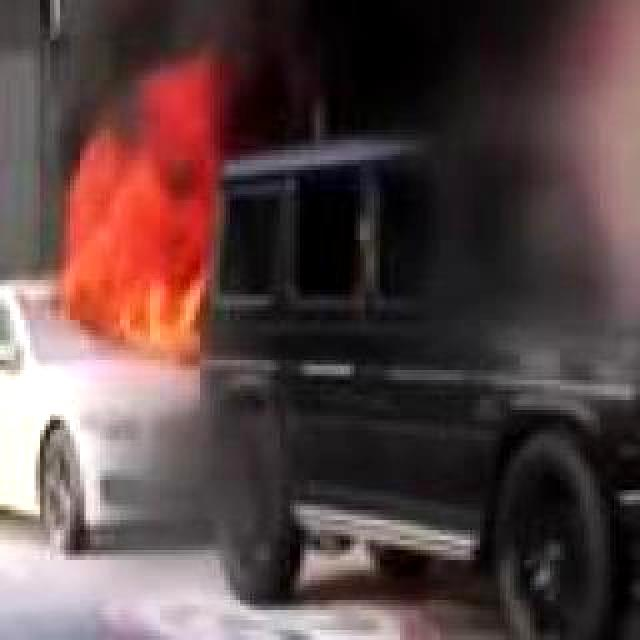fire: (66, 40, 216, 352)
